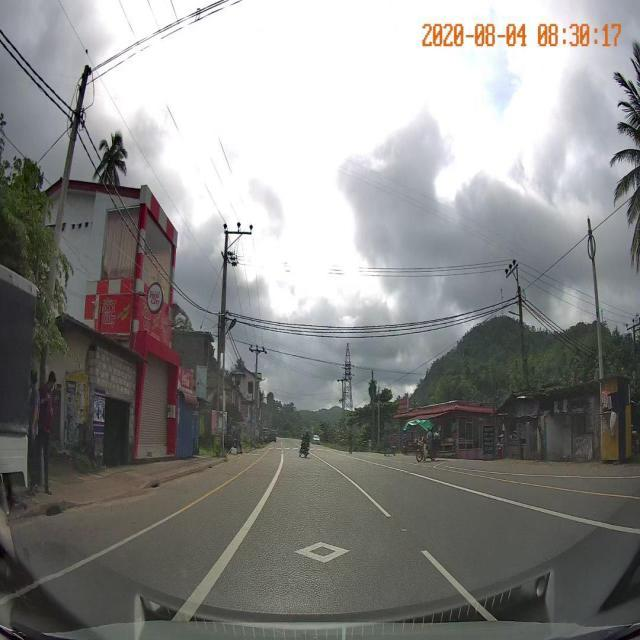Liniya 1: (1, 457, 263, 606), (369, 462, 639, 536), (171, 453, 284, 624), (419, 549, 499, 621), (311, 452, 392, 517)
Romb: (295, 538, 346, 562)
